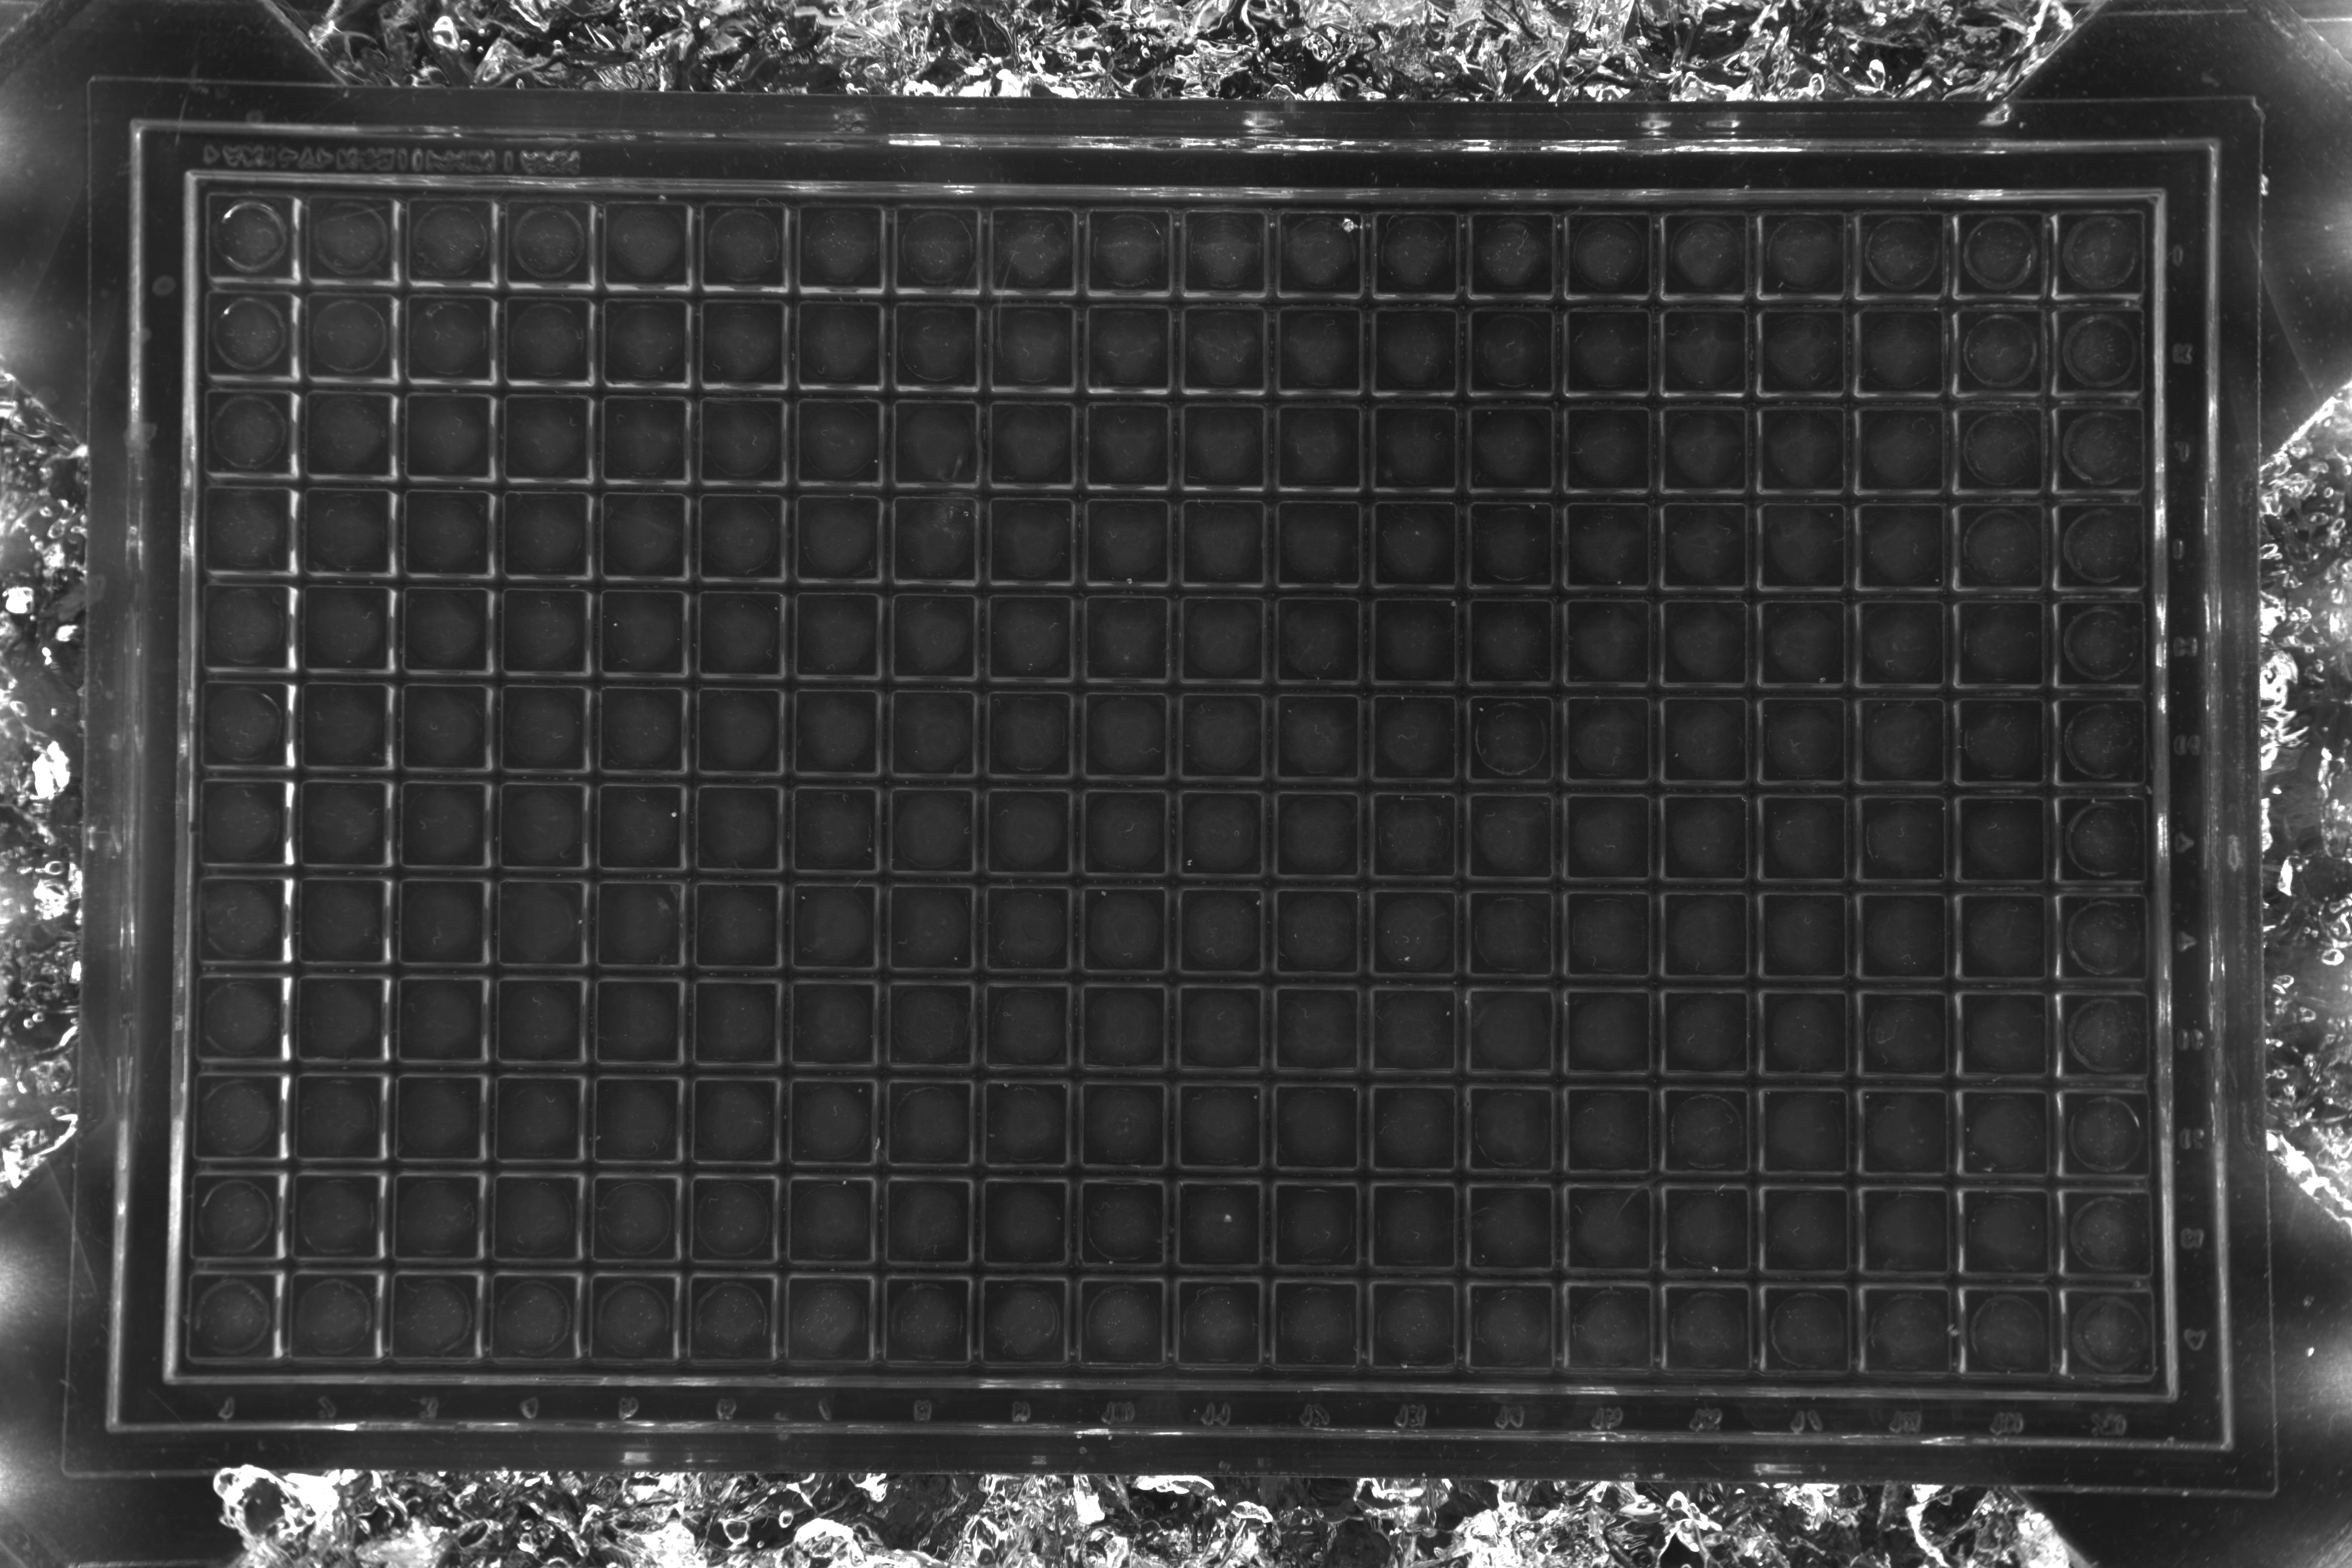WM_well: (299, 845, 388, 933), (395, 945, 485, 1032), (399, 651, 488, 738), (789, 462, 878, 549), (289, 1342, 376, 1430), (294, 1143, 381, 1230), (303, 457, 390, 544), (390, 1242, 478, 1330), (392, 1143, 479, 1230), (399, 749, 486, 836), (887, 269, 975, 357), (1080, 560, 1167, 647), (1176, 269, 1263, 357), (1274, 1241, 1361, 1328), (1372, 1242, 1459, 1330), (1465, 367, 1552, 455), (1466, 560, 1554, 647), (1563, 464, 1650, 551), (1563, 560, 1650, 647), (1564, 850, 1652, 938), (1659, 269, 1746, 357), (1662, 656, 1750, 744), (1858, 462, 1946, 549), (1956, 366, 2044, 453)
